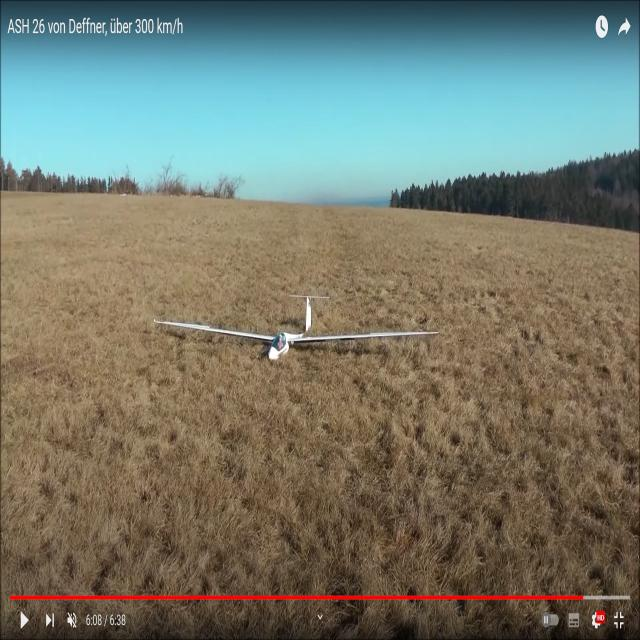iha: (154, 292, 436, 354)
